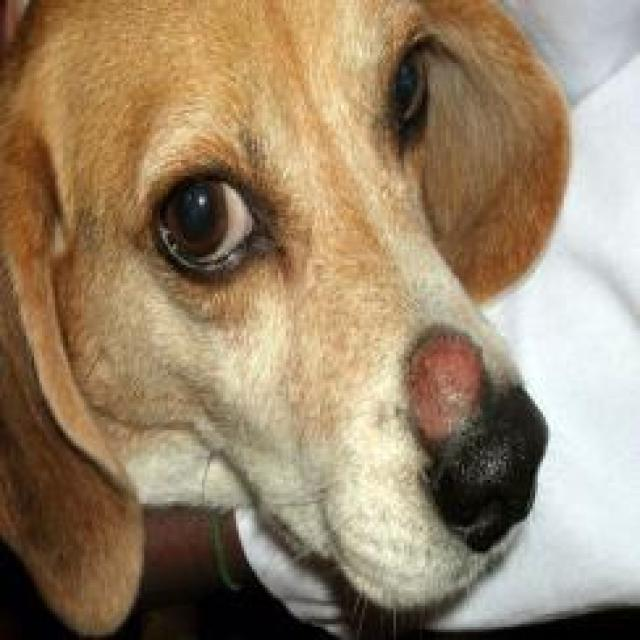allergic dermatitis: (404, 325, 490, 450)
